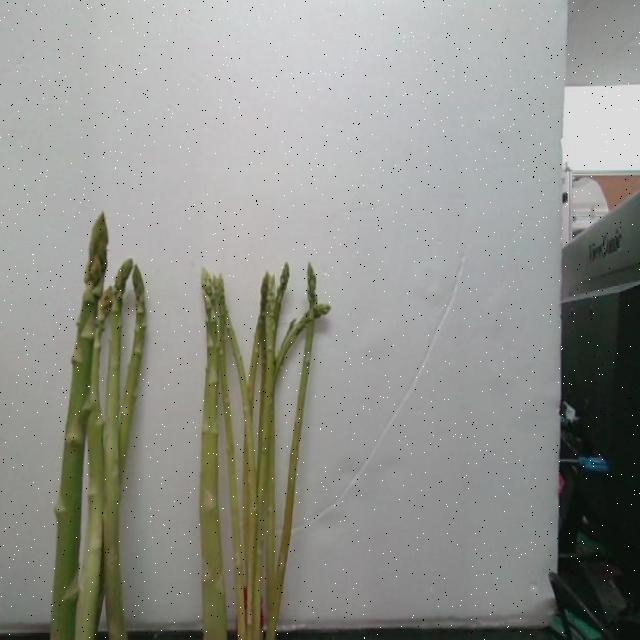aspargus: (49, 214, 108, 640), (198, 265, 232, 640)
